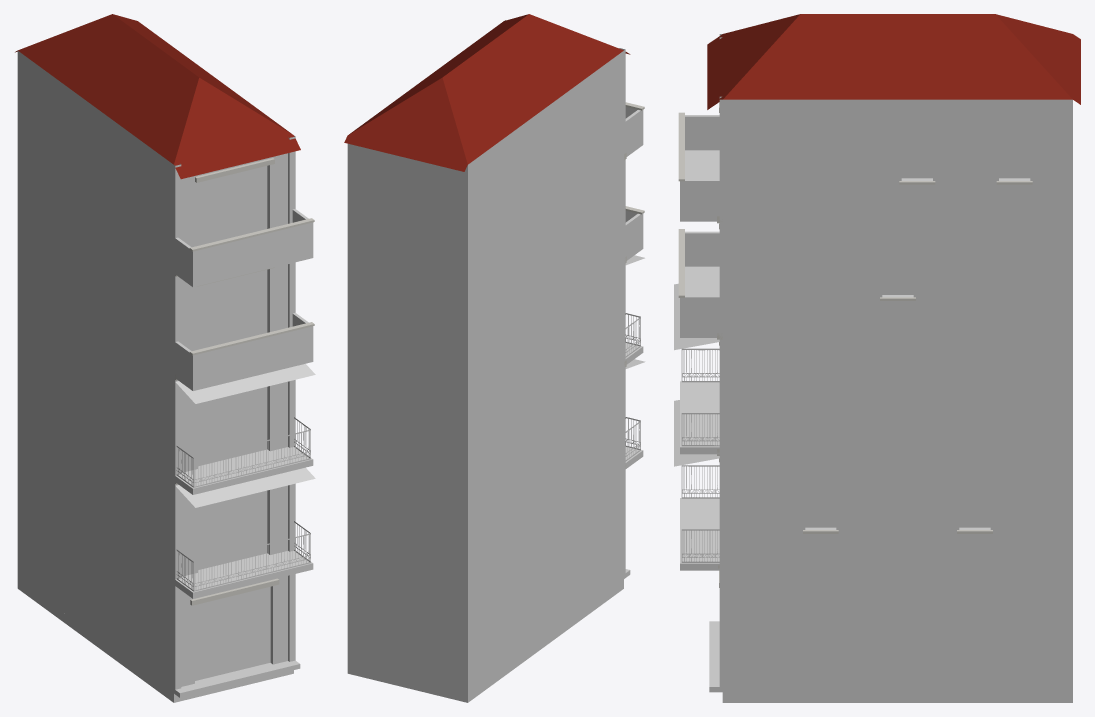
3 views of the same model, side by side, from view 1: azimuth 30°, elevation 25°; view 2: azimuth 150°, elevation 25°; view 3: azimuth 270°, elevation 25° (orthographic). The views are drawn at different scales.
Visible parts, largest first — view 1: TH_D09_R_21_LOD0; view 2: TH_D09_R_21_LOD0; view 3: TH_D09_R_21_LOD0.
Part boxes in pixels (left/top/right/bottom): TH_D09_R_21_LOD0: left=15, top=14, right=315, bottom=702; TH_D09_R_21_LOD0: left=344, top=14, right=645, bottom=702; TH_D09_R_21_LOD0: left=674, top=14, right=1080, bottom=702.
Size of what is drawn, in the model's own units: 4.11 by 18.6 by 10.45.
